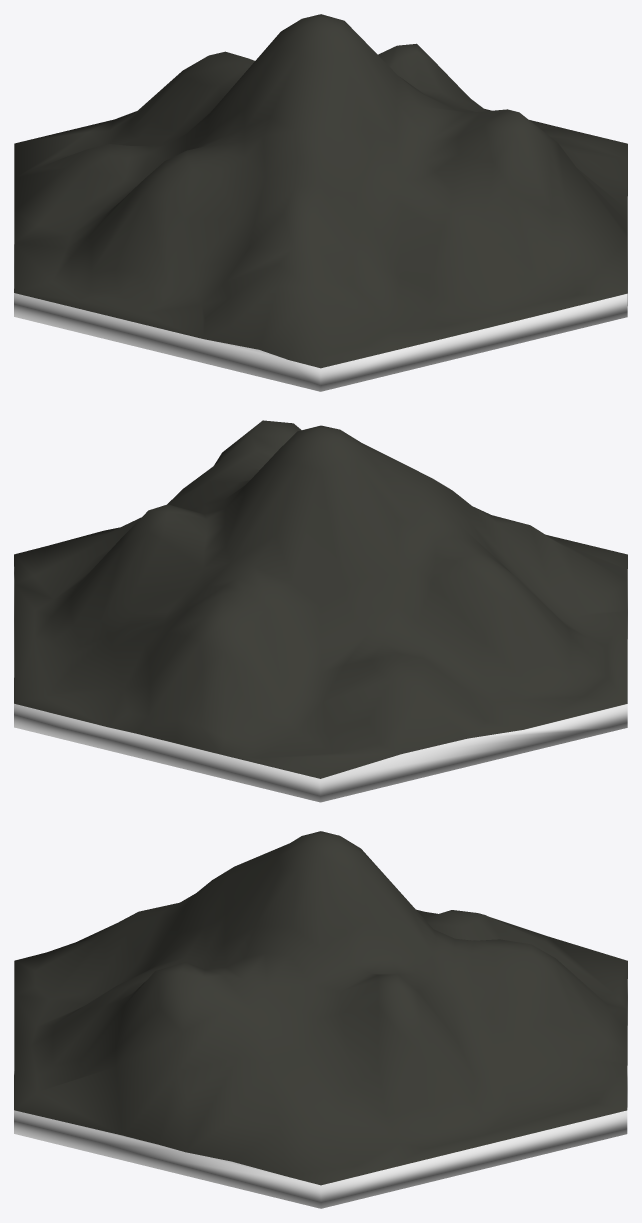
Rendered from hillock.fbx.
The picture shows the model from 3 angles, top to bottom: view 1: azimuth 30°, elevation 25°; view 2: azimuth 150°, elevation 25°; view 3: azimuth 270°, elevation 25°; orthographic projection.
Visible parts, largest first — view 1: Hex; view 2: Hex; view 3: Hex.
Boxes of the visible parts, x1,y1,x2,y2 form: Hex: (14, 14, 627, 391); Hex: (14, 420, 627, 802); Hex: (14, 831, 627, 1208).
Bounding box in the file's own units: 4379 × 1531 × 3795.
